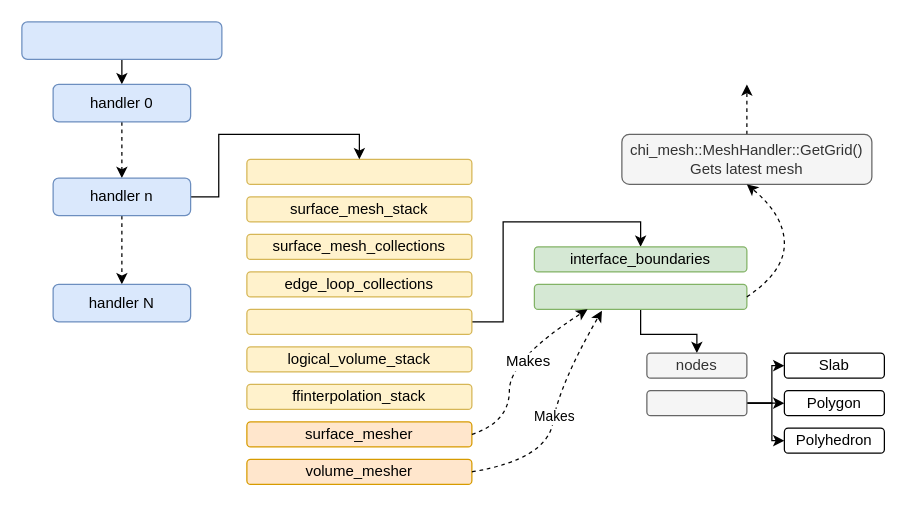
This 906x506 diagram has some shape labels left out. Here are the shapes that lost their labels. From the top down, the centre of each, then its label:
At [121,40]: "chi_meshhandler_stack".
At [359,171]: "linemesh_stack".
At [640,296]: "mesh_continua".
At [359,321]: "region_stack".
At [696,402]: "cells".
